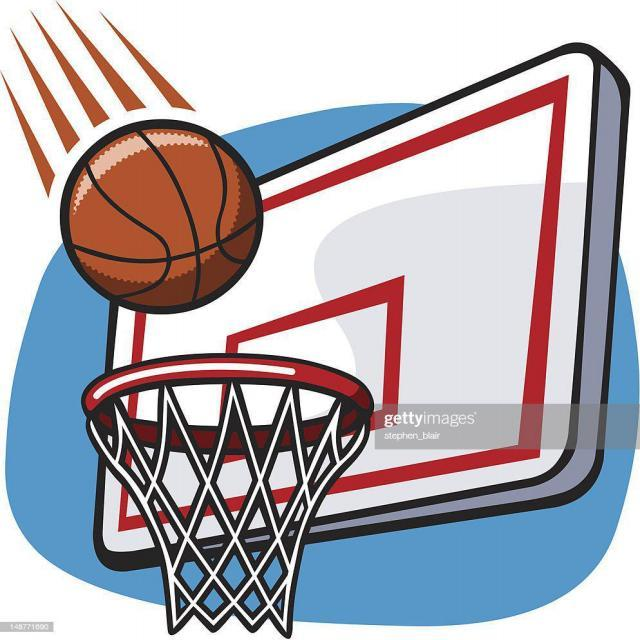Basketball: (60, 118, 262, 314)
hoop: (82, 353, 375, 640)
